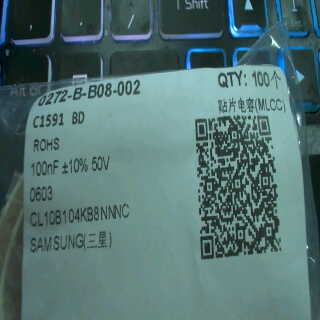100nF: (29, 155, 62, 181)
